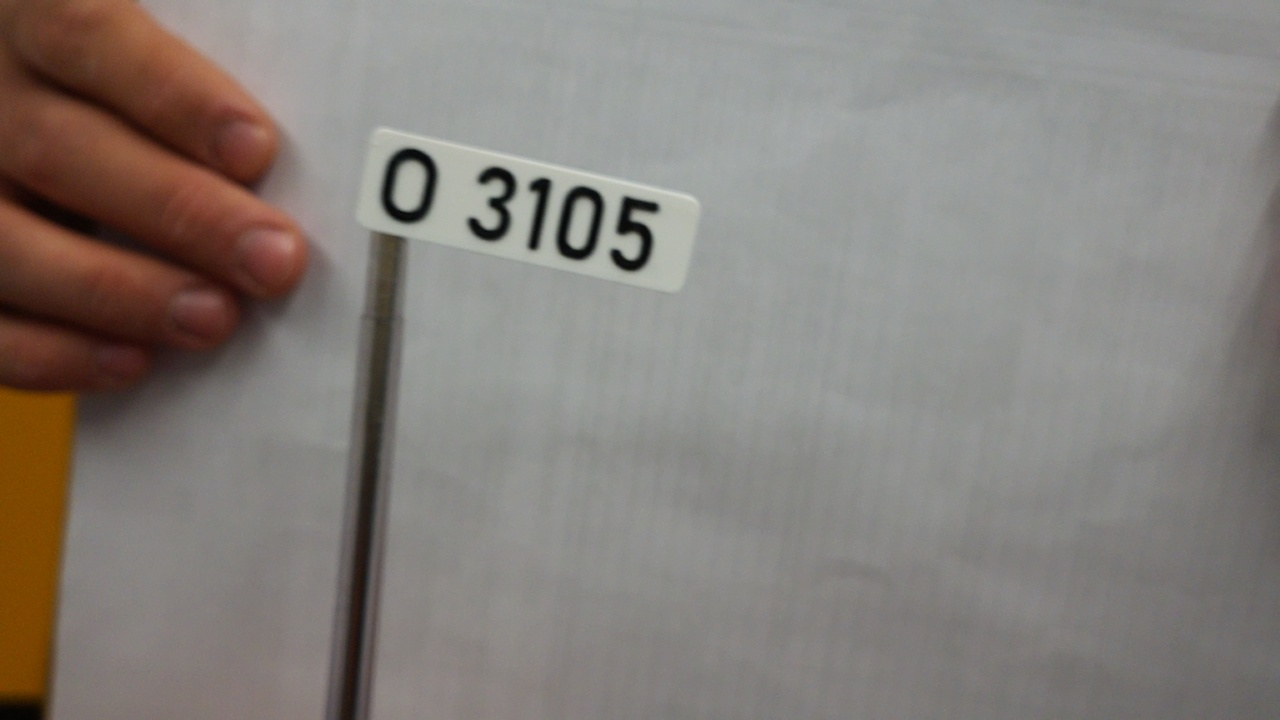license_plate: (354, 124, 704, 294)
